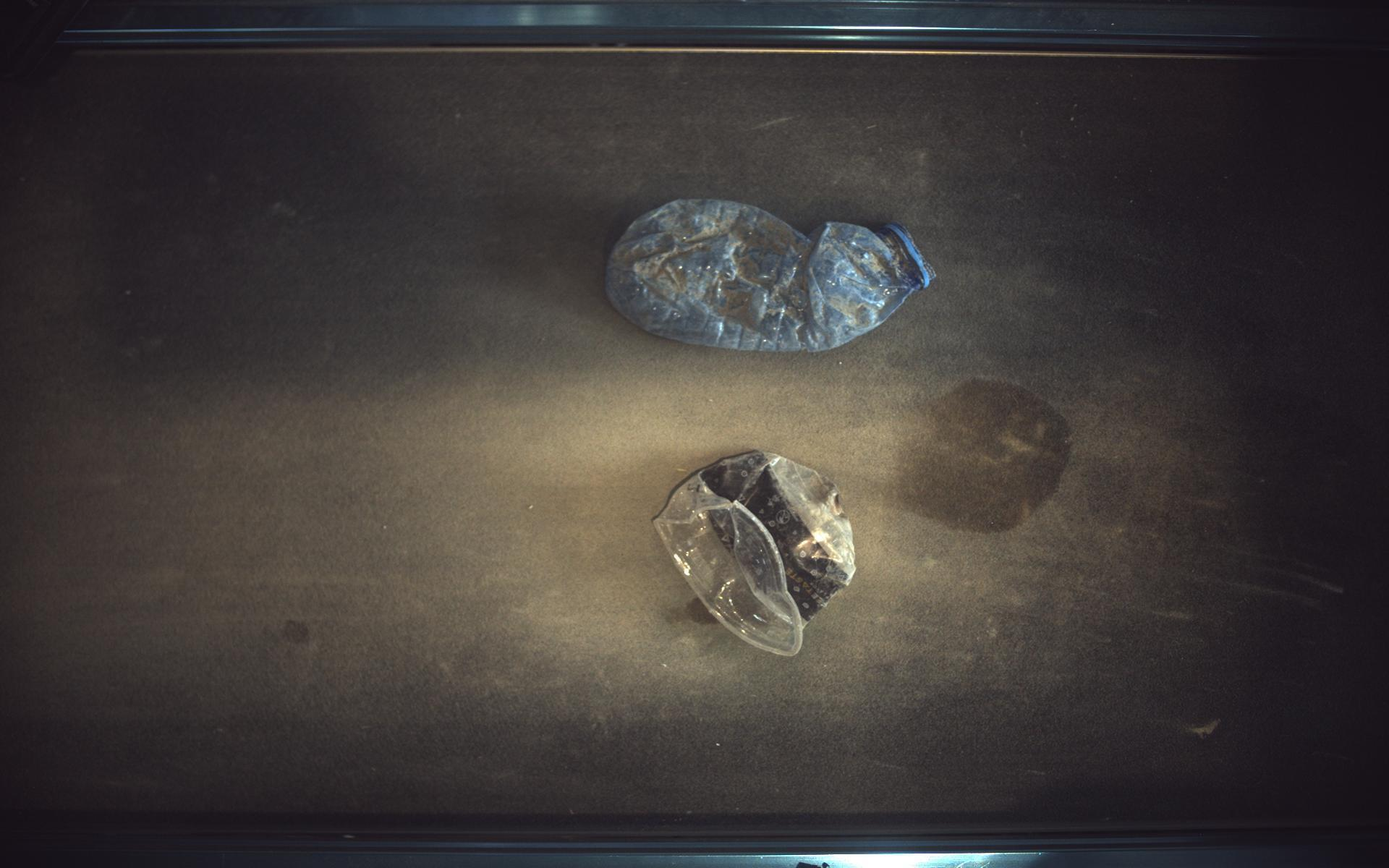general_w: (606, 199, 936, 352), (655, 451, 857, 657)
